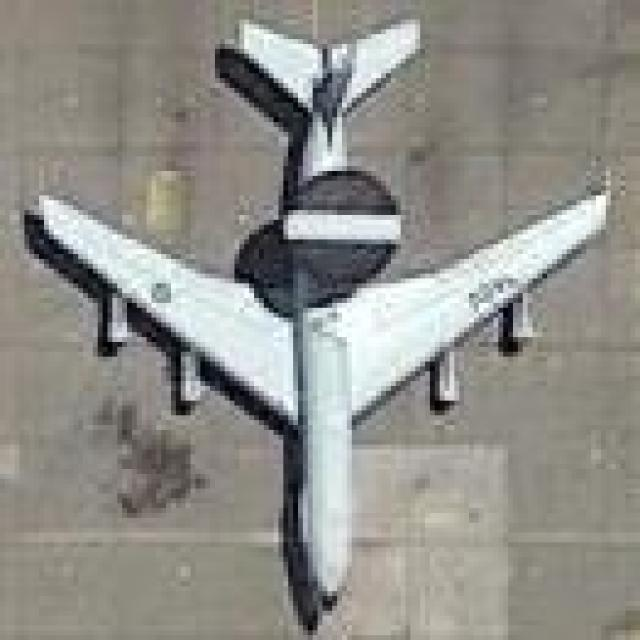E-3_TopDown: (19, 5, 616, 630)
